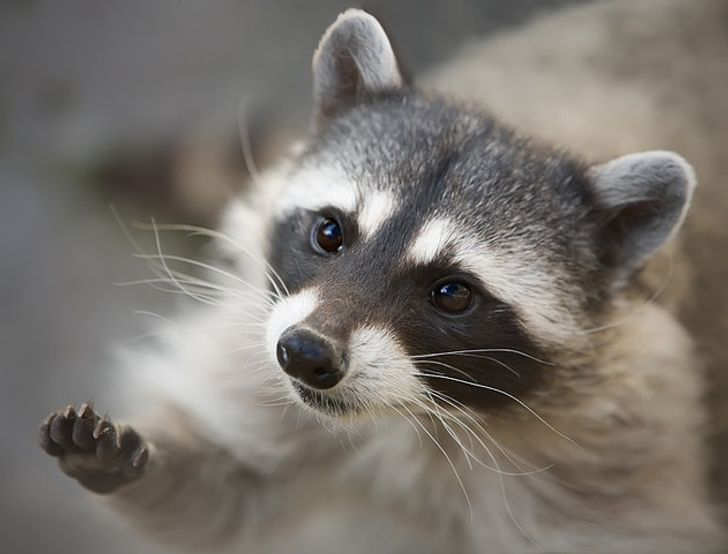raccoon: (259, 6, 694, 456)
